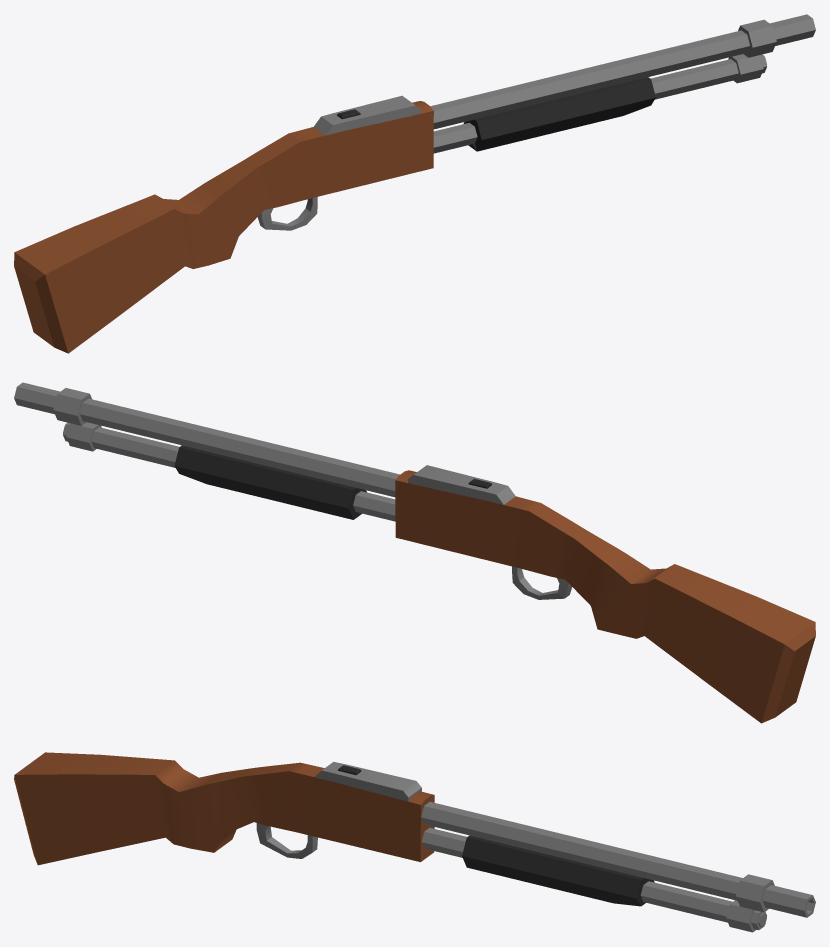
File: gun.glb
The picture shows the model from 3 angles, top to bottom: view 1: azimuth 30°, elevation 25°; view 2: azimuth 150°, elevation 25°; view 3: azimuth 330°, elevation 25°; orthographic projection.
Parts seen in each view (by area): view 1: gun_geo; view 2: gun_geo; view 3: gun_geo.
Boxes of the visible parts, x1,y1,x2,y2 form: gun_geo: (14,14,815,353); gun_geo: (14,382,815,723); gun_geo: (14,752,815,932).
Size of the model in its own units: 1.11 by 0.2128 by 0.075.
1 material, 1 textured.
